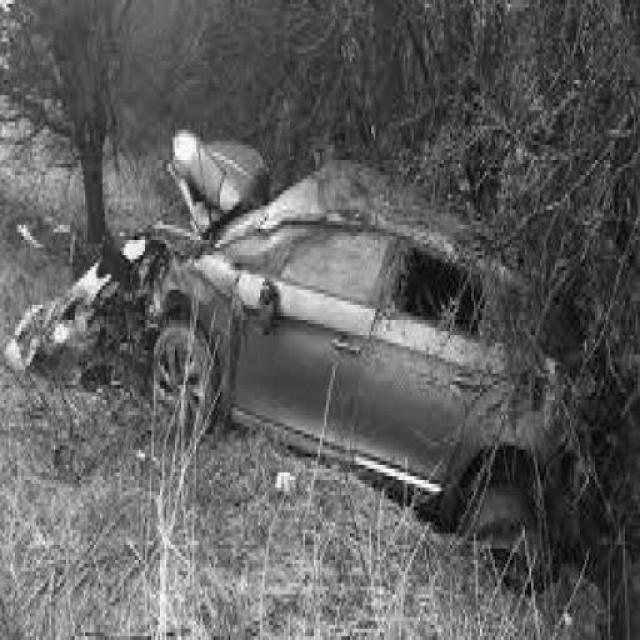crush: (7, 137, 275, 418)
